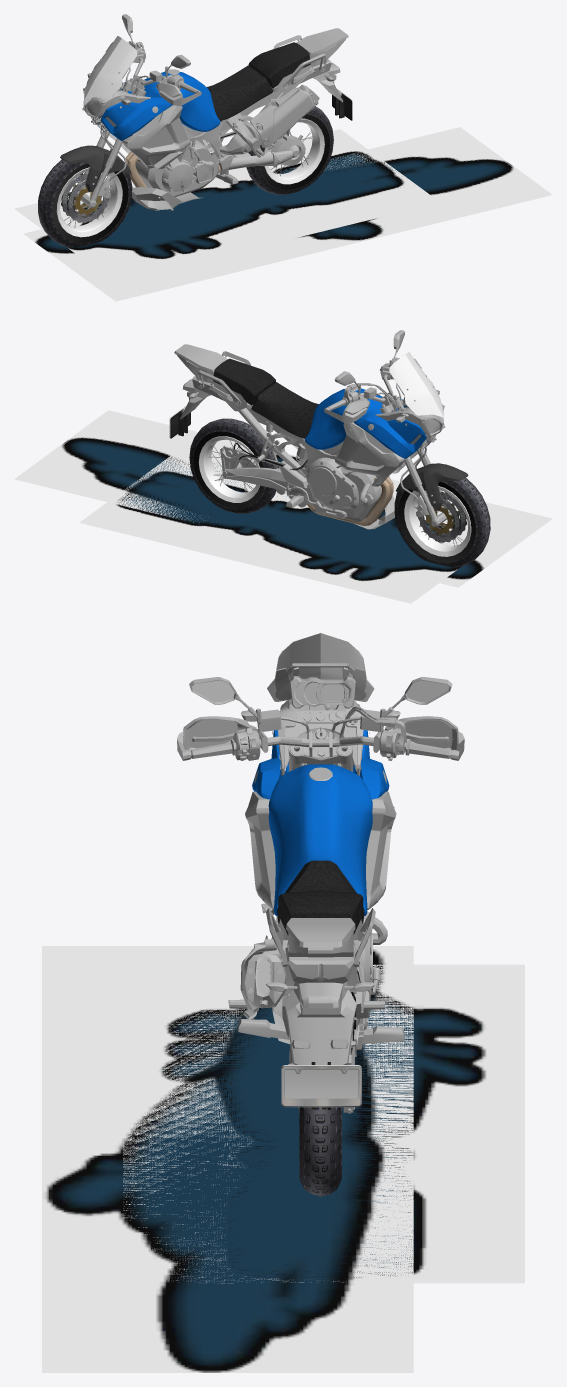
The model's file is bike6.fbx.
3 views of the same model, one above another, from view 1: azimuth 30°, elevation 25°; view 2: azimuth 150°, elevation 25°; view 3: azimuth 270°, elevation 25° (orthographic). The views are drawn at different scales.
Visible parts, largest first — view 1: Shadow_DayLight, Shadow_SunSet, Chrome, Matt, Body, SteeringGold, Tyre_F, Rim_F, Glass, Tyre_B, Rim_B, SteeringBody (+1 smaller); view 2: Shadow_DayLight, Chrome, Shadow_SunSet, Matt, Body, SteeringGold, Tyre_F, Tyre_B, Rim_F, Glass, Rim_B, SteeringBody (+1 smaller); view 3: Shadow_SunSet, Shadow_DayLight, Chrome, Body, SteeringGold, Matt, Tyre_B, Plate, Glass, Mirror.
Boxes of the visible parts, x1,y1,x2,y2 form: Shadow_DayLight: [14, 129, 440, 282]; Shadow_SunSet: [23, 127, 552, 301]; Chrome: [82, 28, 348, 210]; Matt: [207, 42, 310, 138]; Body: [98, 71, 220, 140]; SteeringGold: [75, 14, 201, 207]; Tyre_F: [38, 159, 132, 247]; Rim_F: [56, 167, 122, 237]; Glass: [84, 36, 137, 100]; Tyre_B: [246, 106, 333, 194]; Rim_B: [264, 118, 324, 184]; SteeringBody: [60, 145, 131, 191]; Shadow_DayLight: [79, 448, 512, 603]; Chrome: [174, 344, 445, 529]; Shadow_SunSet: [14, 410, 552, 587]; Matt: [213, 358, 318, 470]; Body: [304, 388, 428, 458]; SteeringGold: [324, 330, 451, 527]; Tyre_F: [394, 478, 490, 567]; Tyre_B: [189, 418, 278, 513]; Rim_F: [404, 486, 471, 556]; Glass: [389, 352, 443, 417]; Rim_B: [198, 436, 259, 502]; SteeringBody: [396, 463, 468, 510]; Shadow_SunSet: [42, 946, 413, 1372]; Shadow_DayLight: [123, 964, 524, 1283]; Chrome: [228, 663, 404, 1113]; Body: [252, 730, 389, 916]; SteeringGold: [177, 677, 464, 771]; Matt: [277, 860, 364, 1054]; Tyre_B: [299, 1107, 341, 1196]; Plate: [281, 1065, 361, 1107]; Glass: [267, 632, 374, 701]; Mirror: [192, 680, 449, 702].
Bounding box in the file's own units: 320 × 137 × 151.
